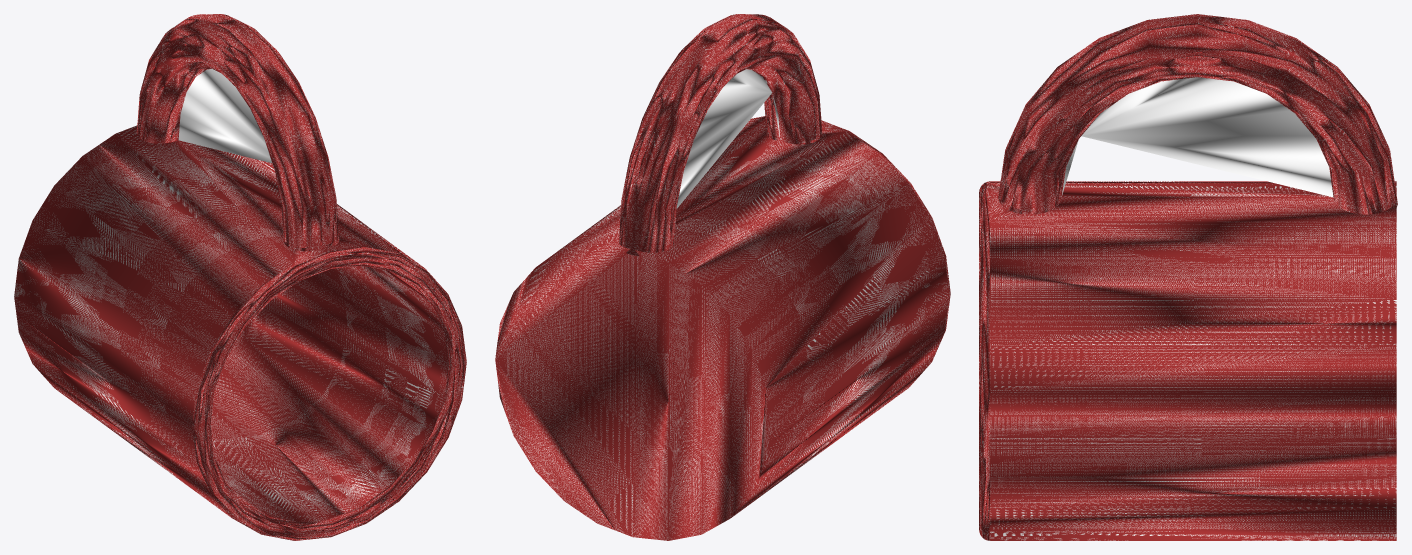
File: model_align.obj
3 renders of one model, left to right at view 1: azimuth 30°, elevation 25°; view 2: azimuth 150°, elevation 25°; view 3: azimuth 270°, elevation 25°, orthographic. The views are drawn at different scales.
Size of the model in its own units: 0.0757 by 0.1176 by 0.0879.
